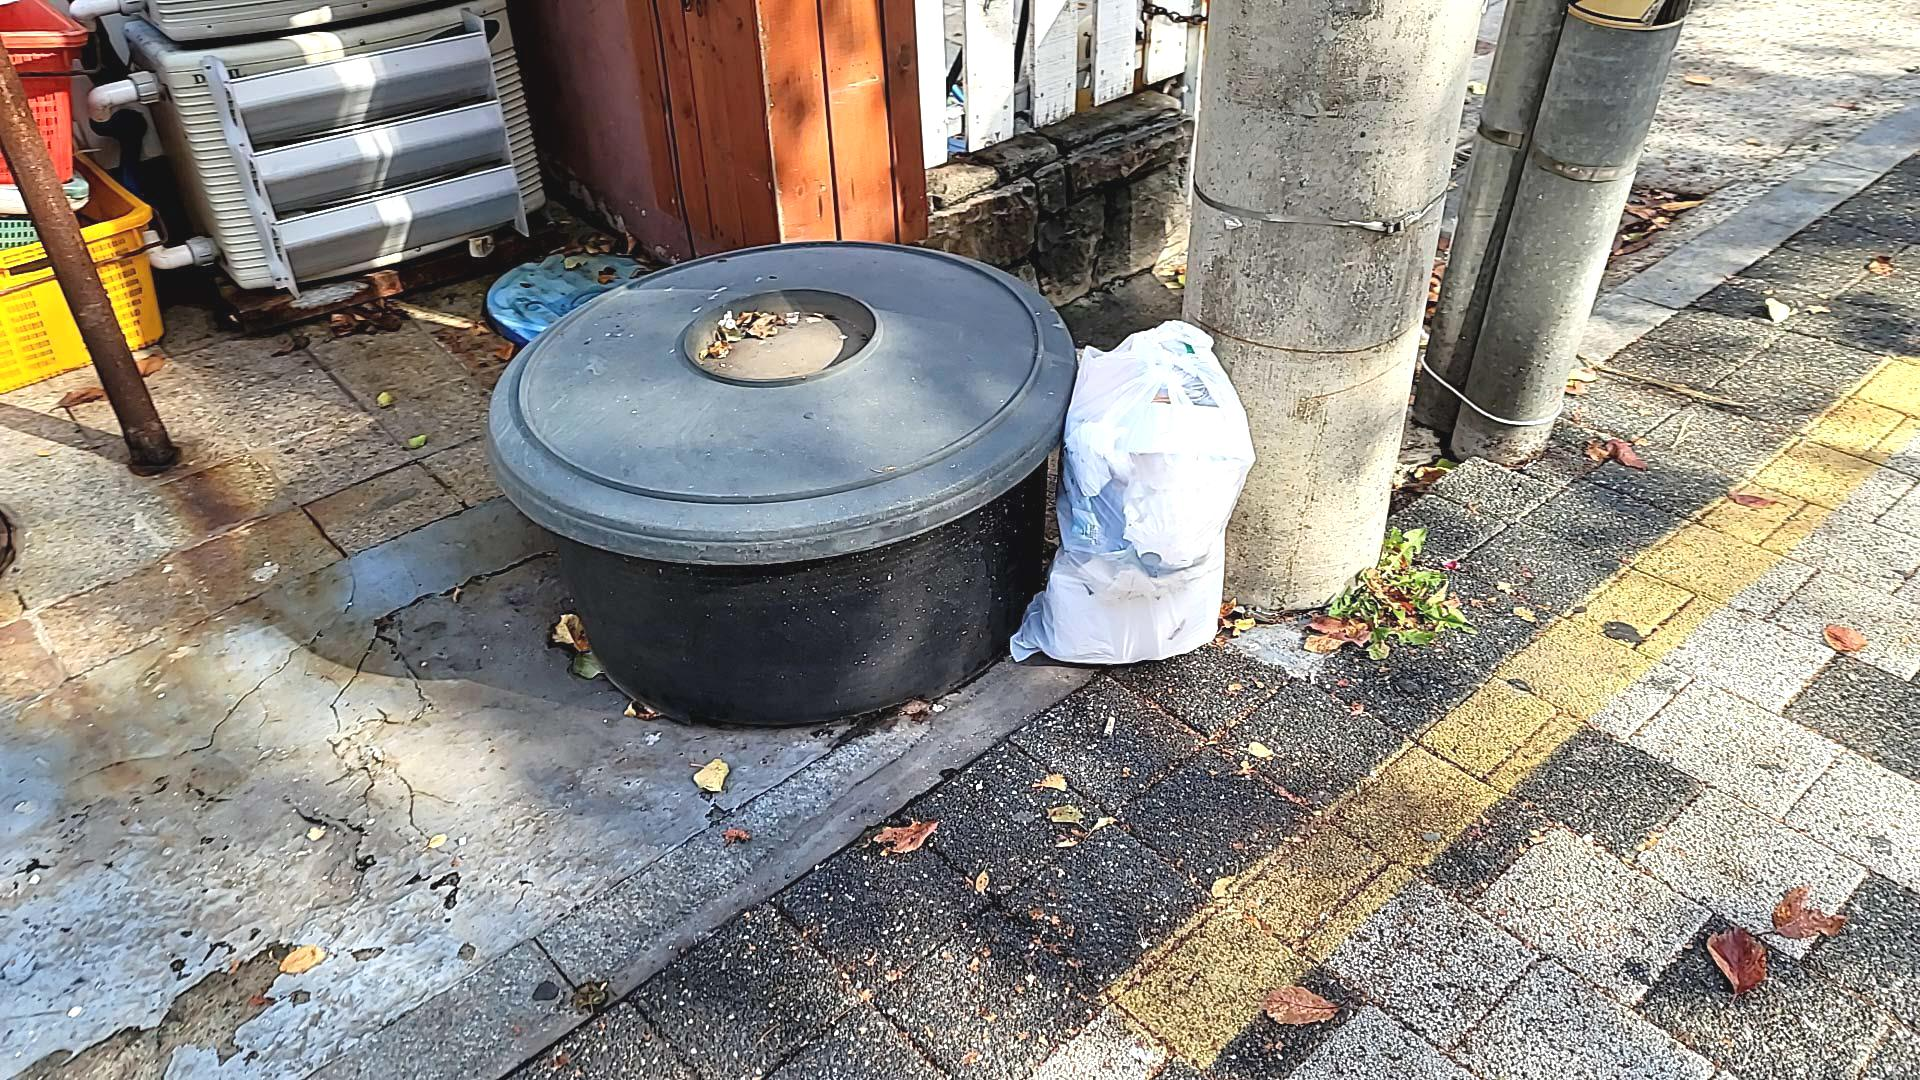white_bag: (992, 289, 1247, 675)
